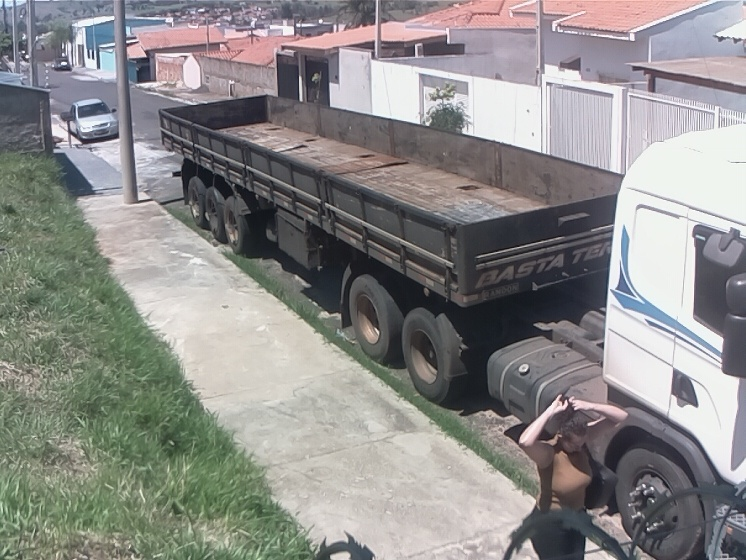person: (515, 394, 629, 560)
